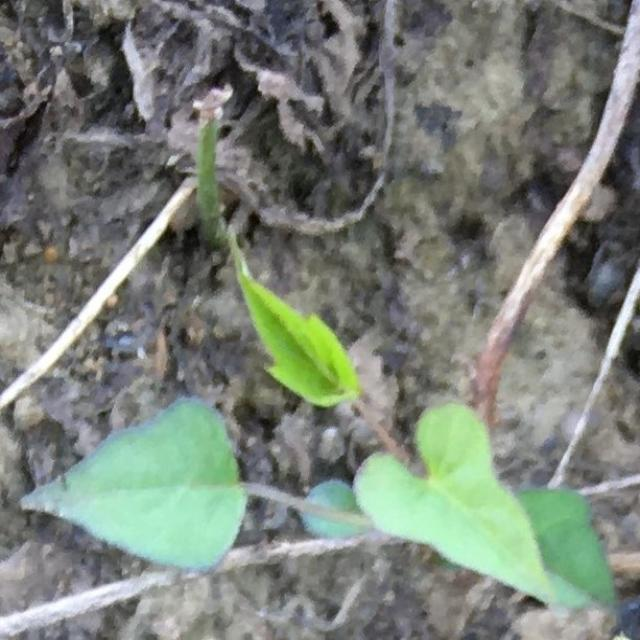MorningGlory: (20, 232, 616, 608)
